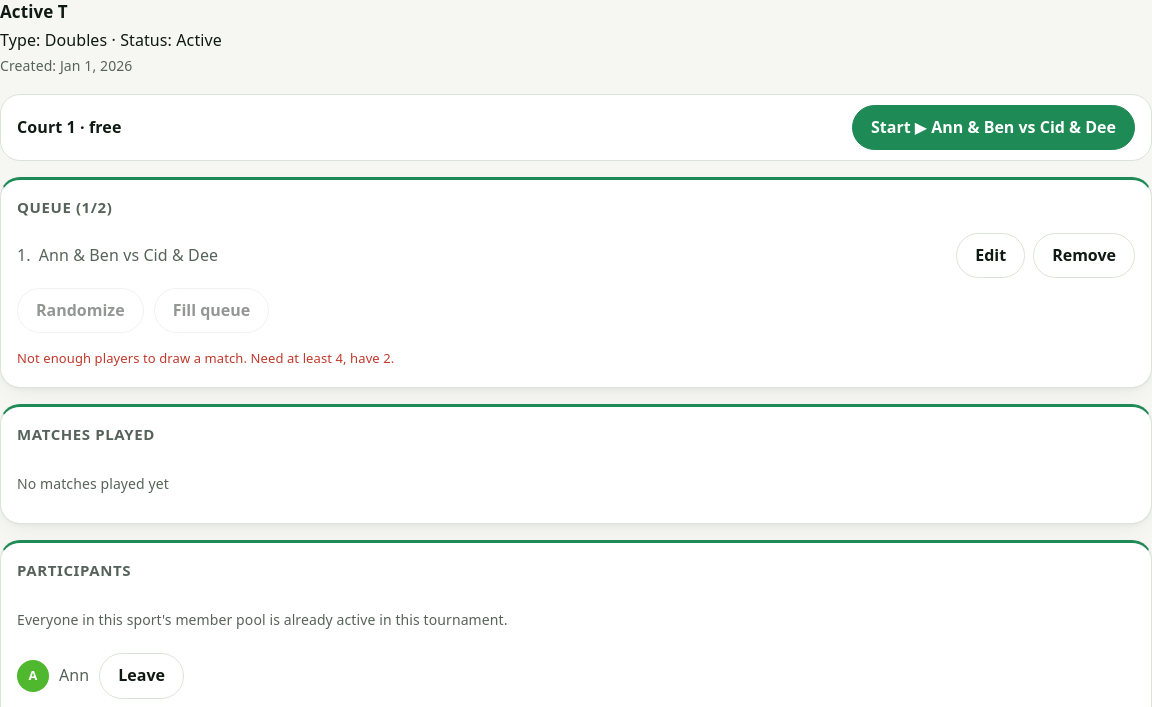
it: TournamentDetail: Queue entry inline edit › shows a non-blocking warning when an edit leaves a 2-2 doubles quartet split into same-gender teams
Expected: the text "This lineup isn't gender-mixed, though a mixed pairing was possible." is not shown
Click the button with aria-label "Edit 1. Ann & Ben vs Cid & Dee".
click(991, 256)  # box 956,233 -> 1025,278
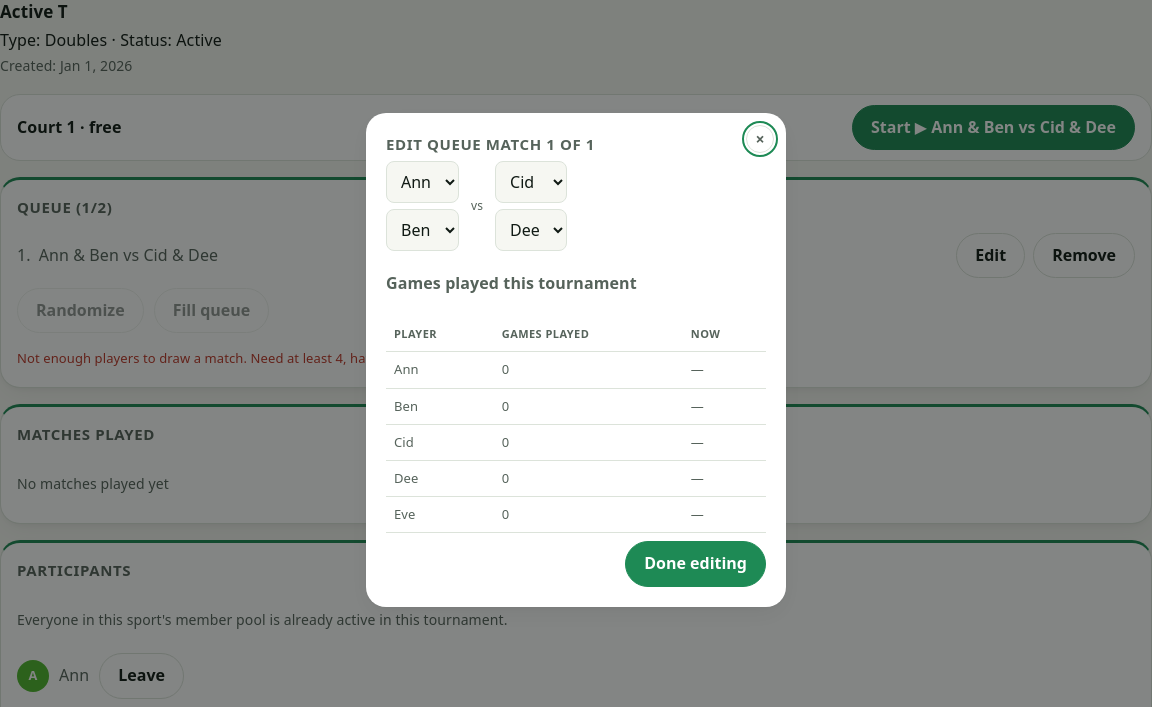
Select "Eve" in the dropdown named "Team 1 player 2" at (422, 230), box 386,208 -> 459,250
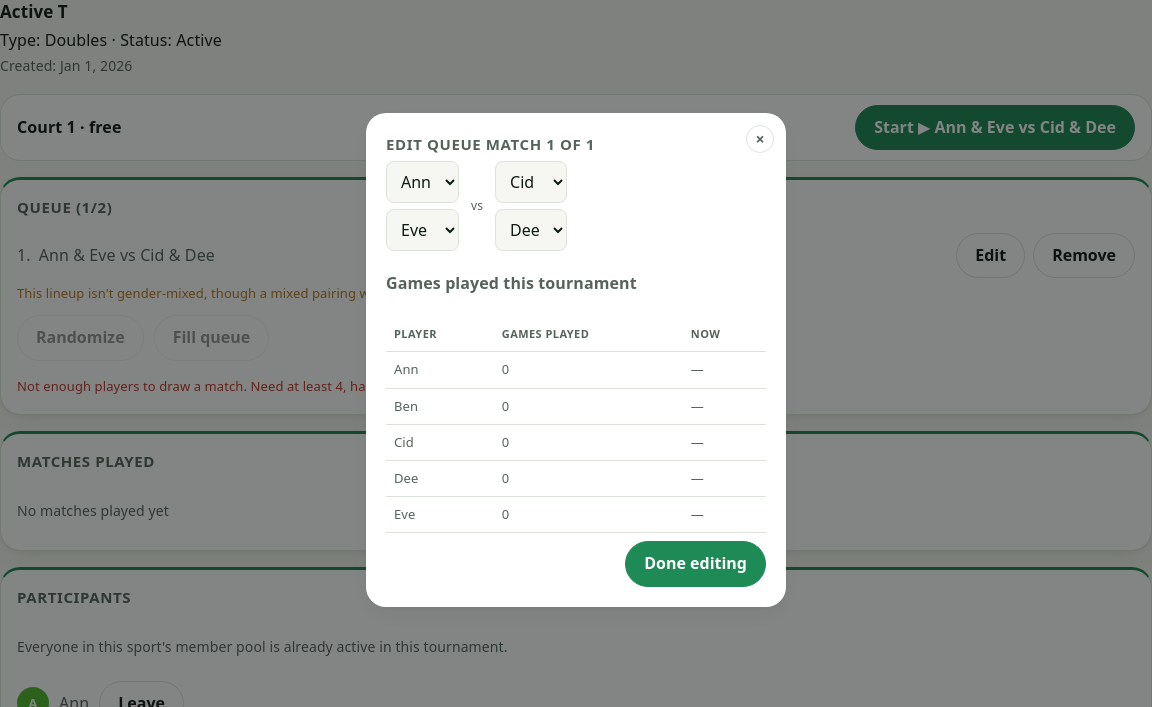
Expected: the text "This lineup isn't gender-mixed, though a mixed pairing was possible." is shown, 17,284 -> 442,302
